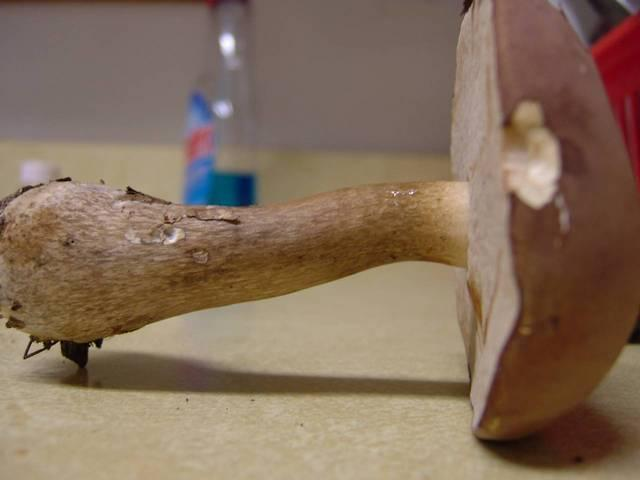poisonous_mushroom: (1, 0, 638, 443)
